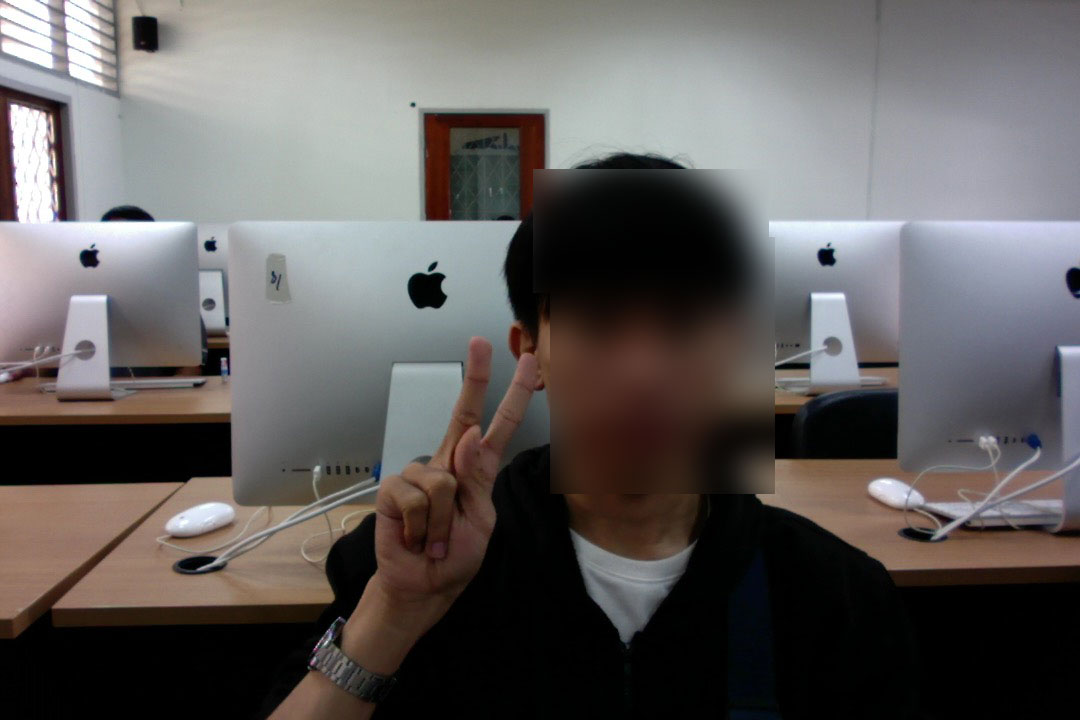ko: (335, 332, 550, 608)
